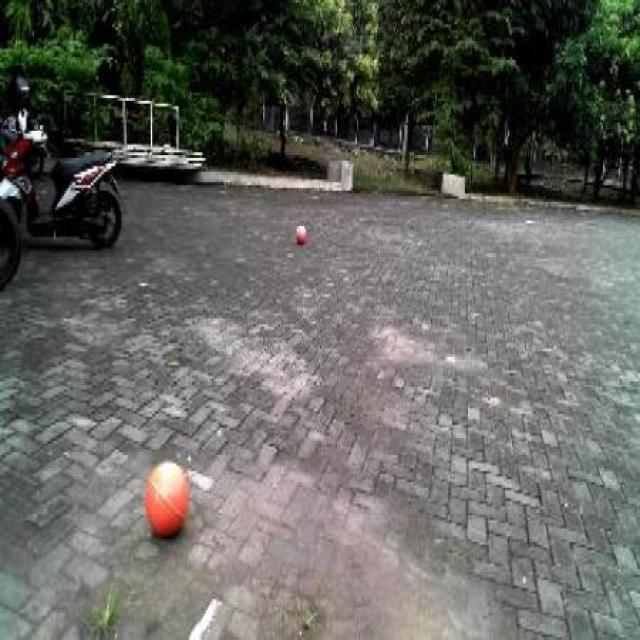buoy: (141, 448, 195, 549), (291, 219, 309, 246)
